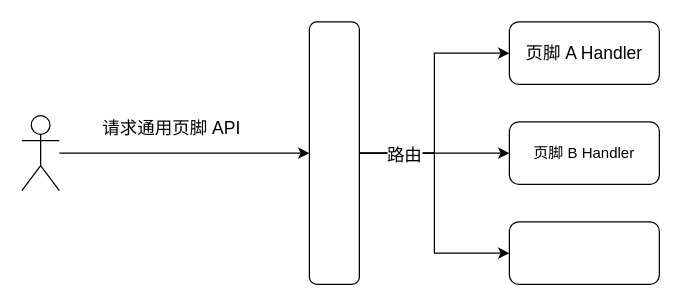
Image size: 681x306. Some labels were removed from this diagram. The box of each missing label's shape, as (x1, y1, x2, y2) in pixels:
Actor: (21, 114, 59, 191)
页脚 C Handler: (508, 221, 659, 284)
